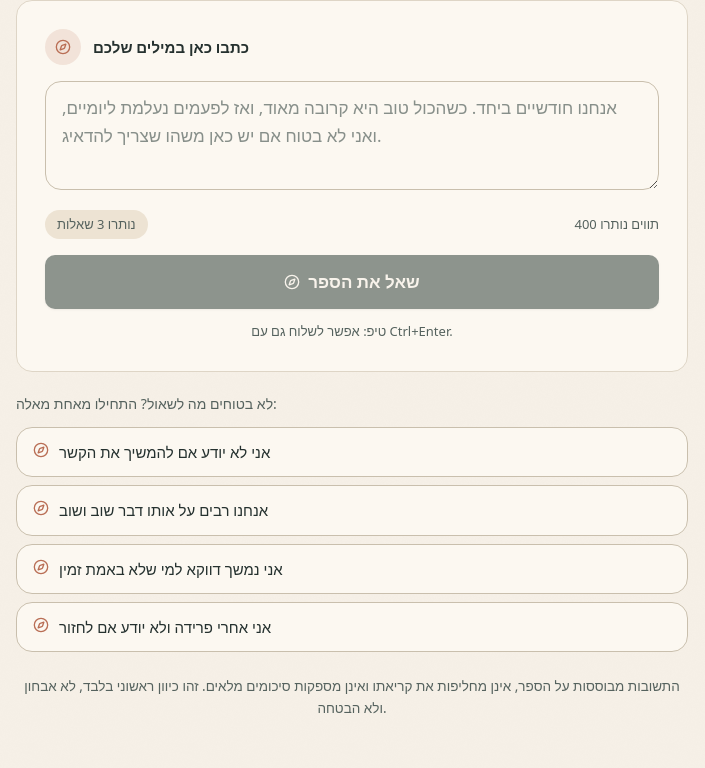
Test: CompassConsole, attention line (focus) › renders the attention line after a successful grounded answer that includes focus
This screenshot has width=705, height=768.
Replace the text in the text box labelled "כתבו כאן במילים שלכם" with "מה קורה כשהיא מתרחקת לפעמים?" at (352, 135), box [45,81,659,190]
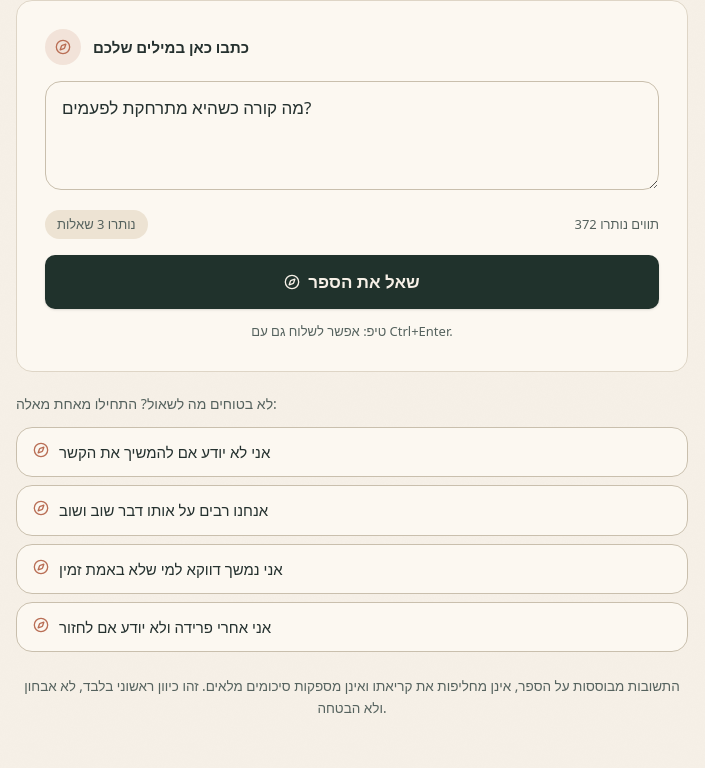
Click the button "שאל את הספר" at (352, 282), box [45,255,659,309]
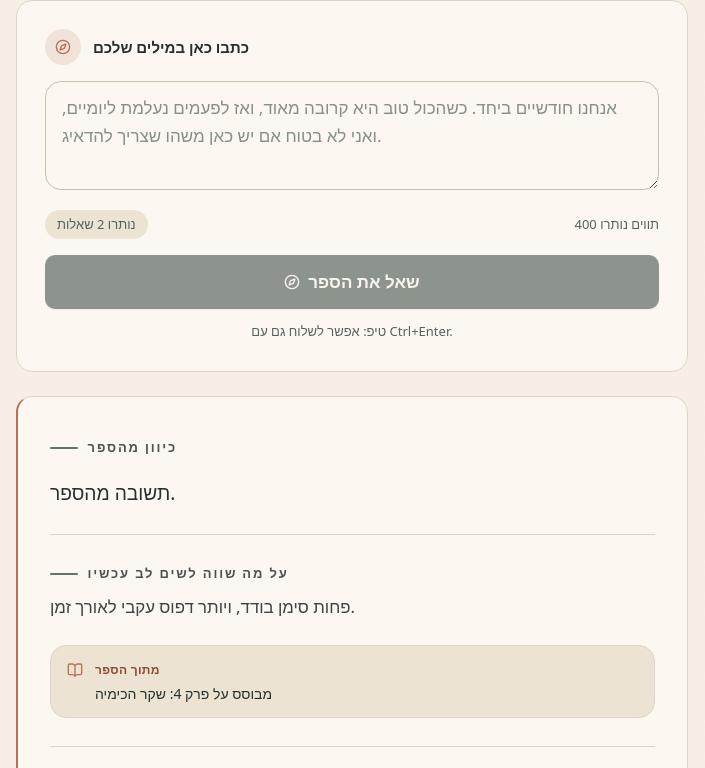
Check: the text "תשובה מהספר." is shown, box [50,478,175,506]
Check: the text "על מה שווה לשים לב עכשיו" is shown, box [88,564,289,582]
Check: the text "פחות סימן בודד, ויותר דפוס עקבי לאורך זמן." is shown, box [50,595,355,618]
